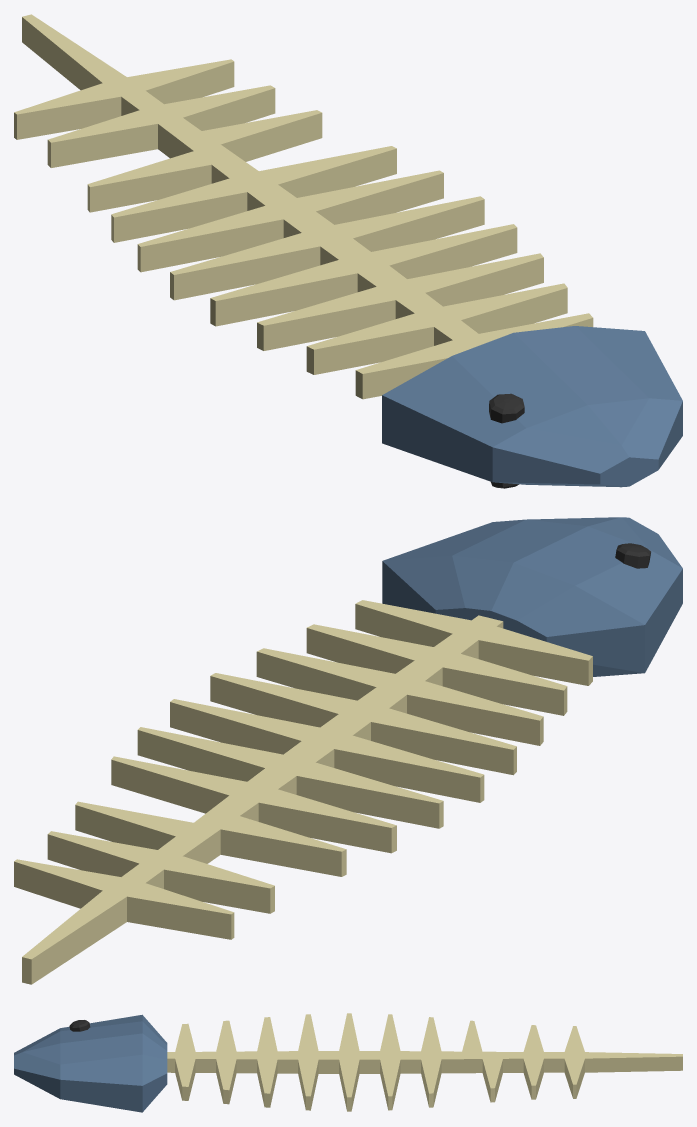
Rendered from F_Fish_C.fbx.
3 renders of one model, top to bottom at view 1: azimuth 30°, elevation 25°; view 2: azimuth 150°, elevation 25°; view 3: azimuth 270°, elevation 25°, orthographic. The views are drawn at different scales.
Parts seen in each view (by area): view 1: F_Fish_C; view 2: F_Fish_C; view 3: F_Fish_C.
Part boxes in pixels (<box>): F_Fish_C: <box>14,14,682,488</box>; F_Fish_C: <box>14,517,682,984</box>; F_Fish_C: <box>14,1013,682,1112</box>.
Size of the model in its own units: 18.08 by 6.06 by 60.78.
